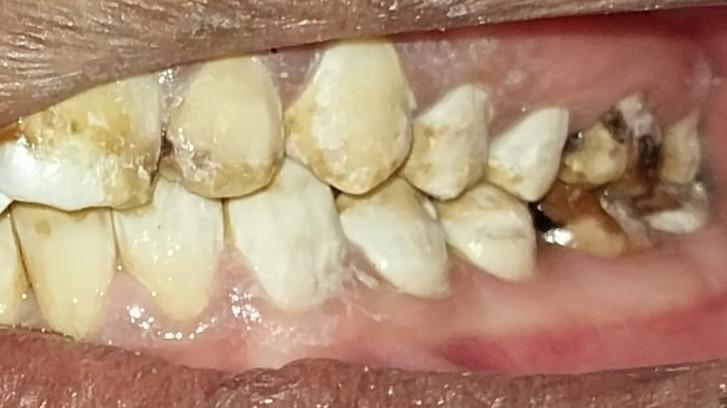D: (566, 98, 668, 198), (539, 184, 665, 261)
